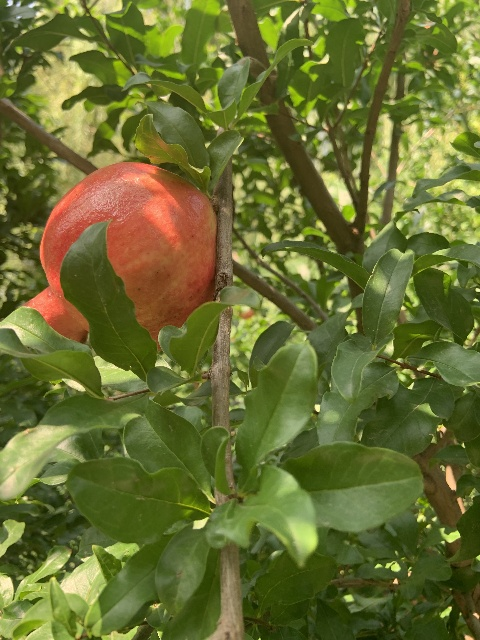ripe: (24, 163, 219, 353)
